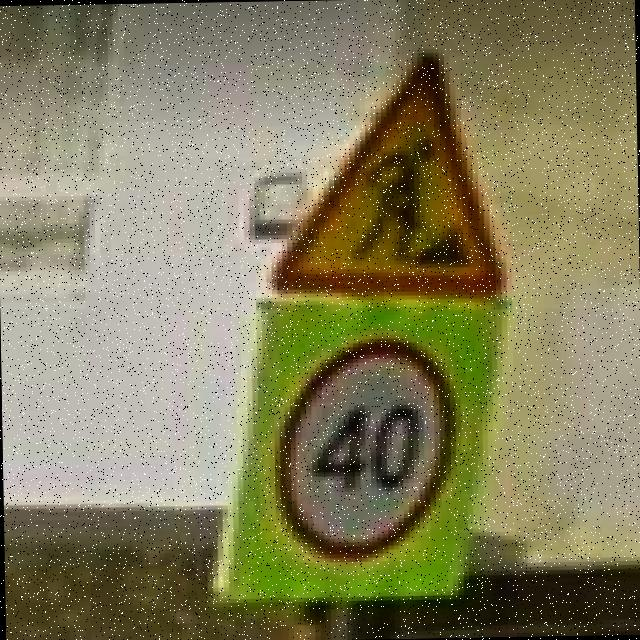Ograniczenie predkosci do 40: (272, 333, 462, 559)
